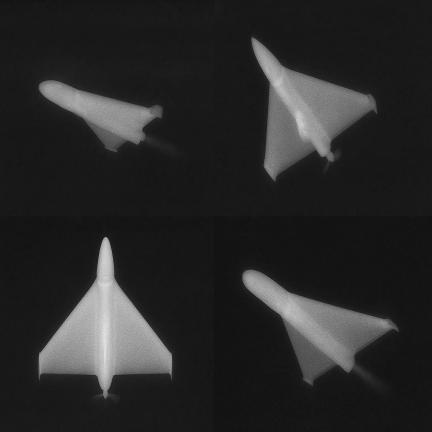Shahed: (39, 238, 172, 398), (243, 270, 398, 385), (252, 38, 376, 180), (40, 81, 162, 151)
